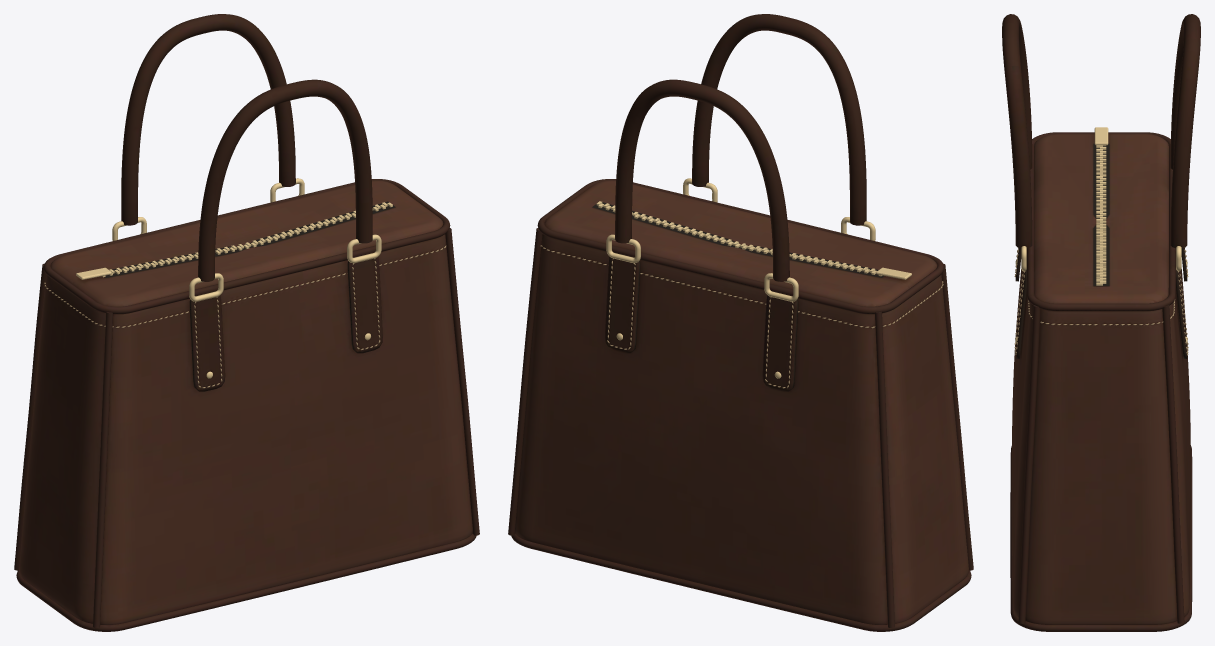
The model's file is tote.glb.
3 views of the same model, side by side, from view 1: azimuth 30°, elevation 25°; view 2: azimuth 150°, elevation 25°; view 3: azimuth 270°, elevation 25° (orthographic).
Parts seen in each view (by area): view 1: Tote; view 2: Tote; view 3: Tote.
Boxes of the visible parts, x1,y1,x2,y2 form: Tote: (14, 14, 479, 631); Tote: (508, 14, 973, 631); Tote: (1002, 14, 1200, 631).
Bounding box in the file's own units: 0.344 × 0.4202 × 0.1473.
Materials: 5 (1 with a texture image).
